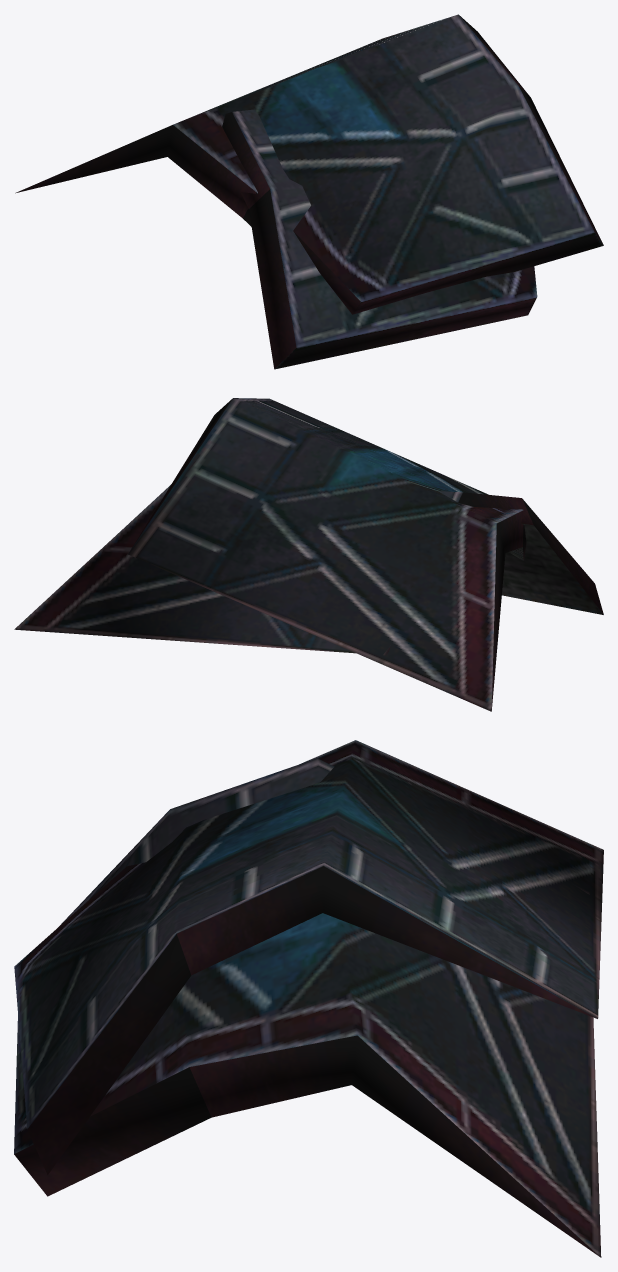
The model's file is ShoulderPads6__LED.glb.
3 renders of one model, top to bottom at view 1: azimuth 30°, elevation 25°; view 2: azimuth 150°, elevation 25°; view 3: azimuth 270°, elevation 25°, orthographic. The views are drawn at different scales.
Visible parts, largest first — view 1: ShoulderPads6; view 2: ShoulderPads6; view 3: ShoulderPads6.
Part boxes in pixels (bbox=[...]): ShoulderPads6: bbox=[15, 14, 603, 369]; ShoulderPads6: bbox=[14, 398, 603, 711]; ShoulderPads6: bbox=[14, 740, 603, 1257].
Bounding box in the file's own units: 13.97 × 6.37 × 9.83.
Materials: 1 (1 with a texture image).
